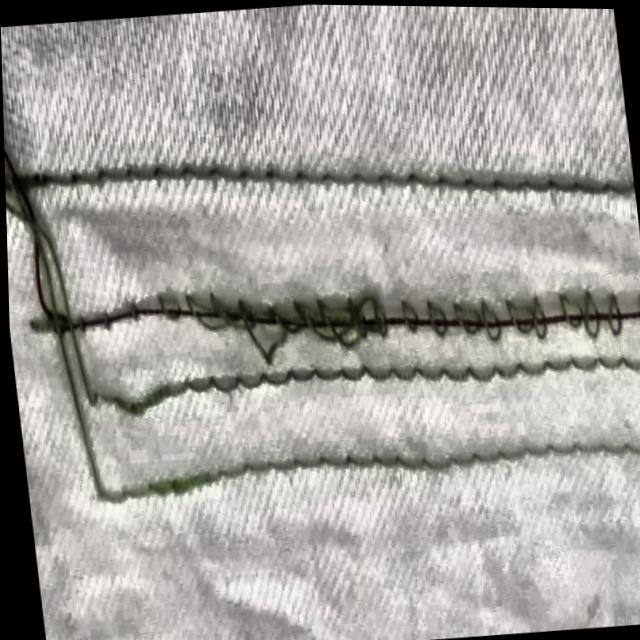Stitch: (144, 255, 402, 385), (393, 252, 640, 380), (0, 110, 120, 362)
